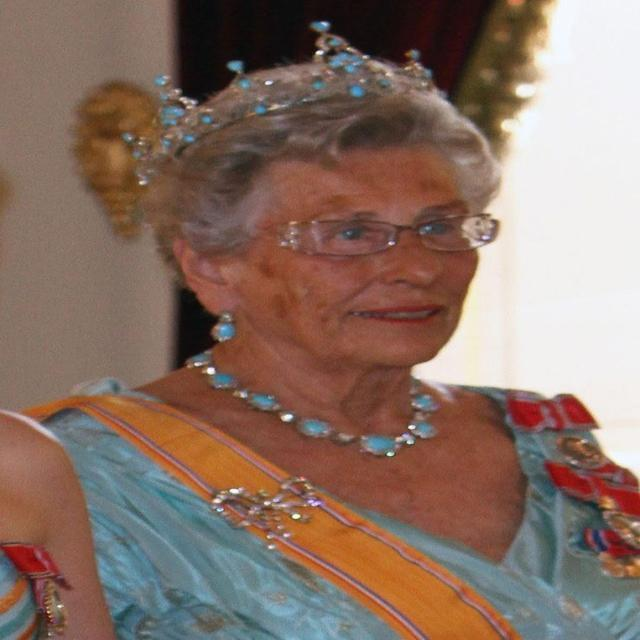Earring: (207, 308, 239, 354)
